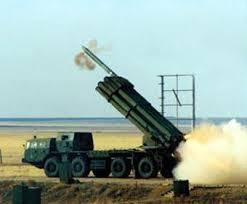MIL_SAM_TEL: (15, 72, 187, 180)
